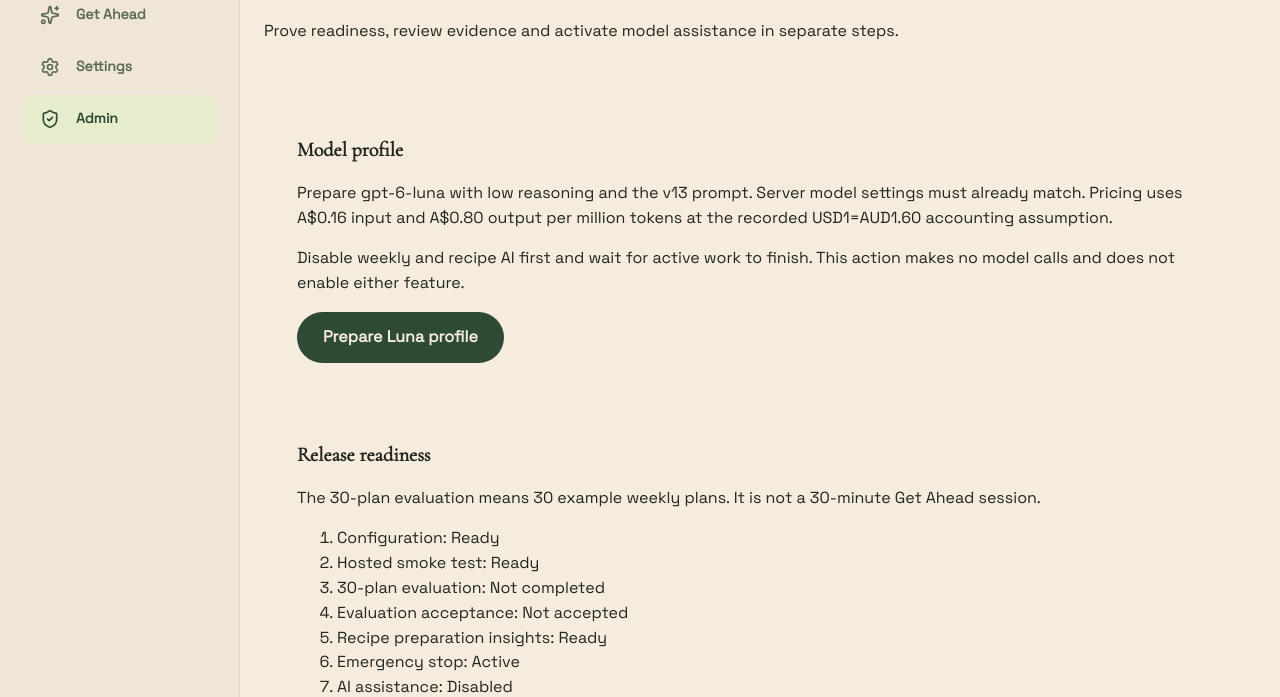
Test: admin model profile transition › confirms and refreshes the profile without evaluation or activation
(page scrolled)
Click the button "Prepare Luna profile": click(400, 338) [297,312,504,363]
(page scrolled)
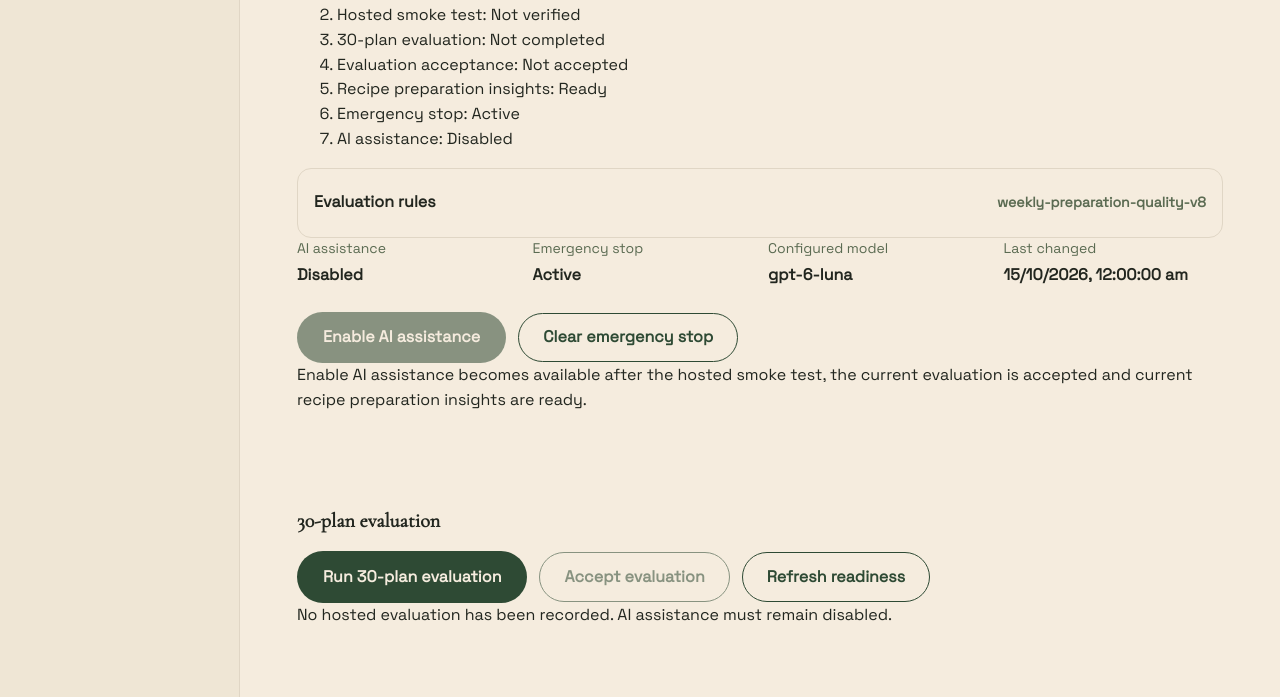
expect the text "gpt-6-luna" is shown: met, box [768,264,852,285]
expect the list item "Hosted smoke test: Not verified" is shown: met, box [337,4,580,25]
